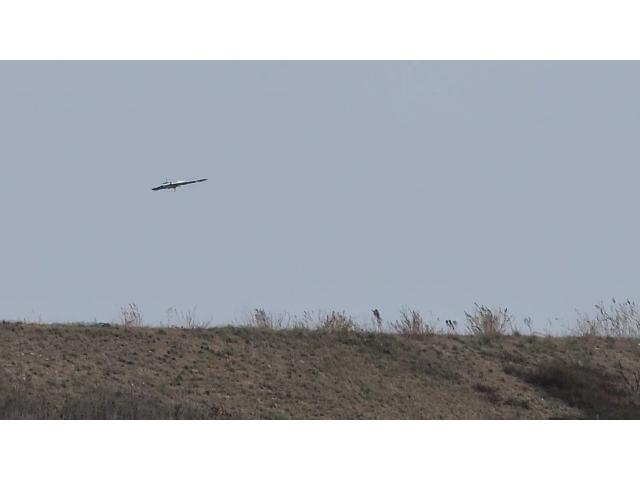Anti-Drone: (150, 177, 210, 193)
